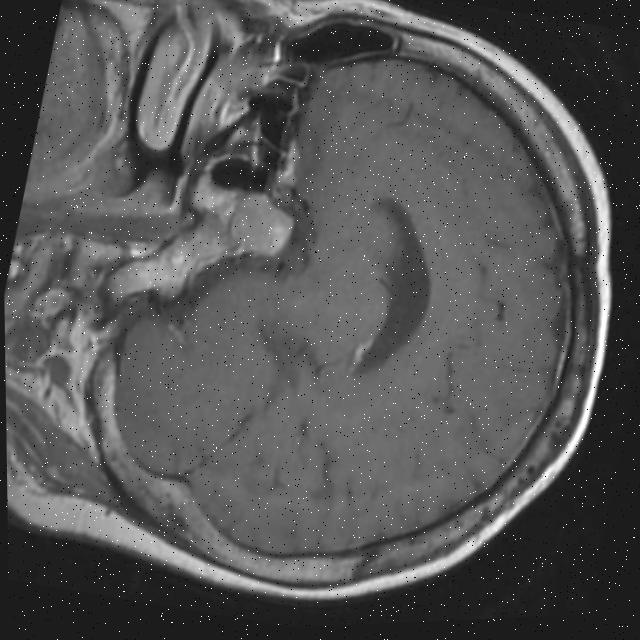Pituitary: (223, 186, 298, 264)
